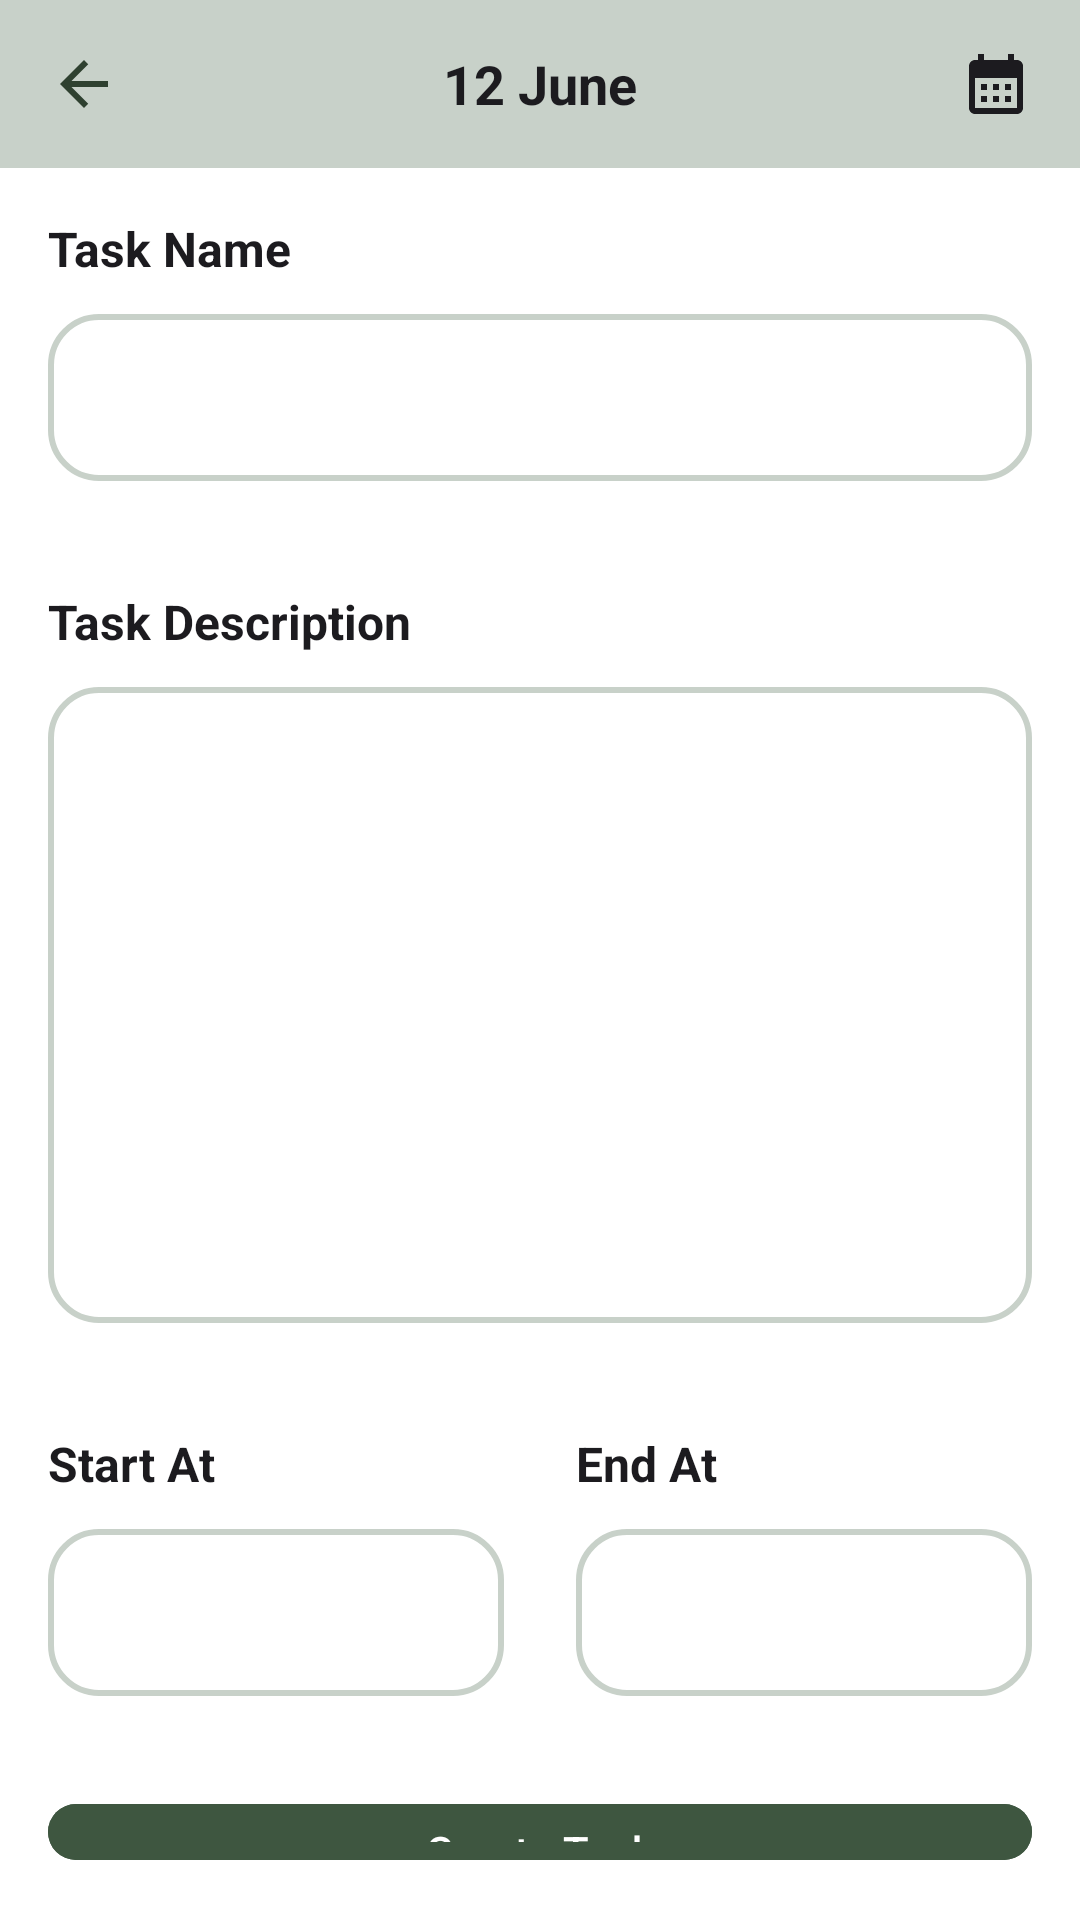

Point at icon controls on the screen. Image size 1080x1920, points as [x,y].
arrow back: [84,84]
calendar month: [996,84]
